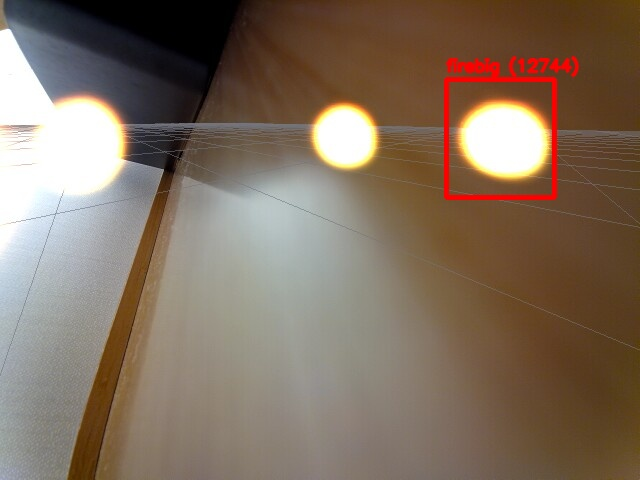firebig: (446, 79, 554, 197)
